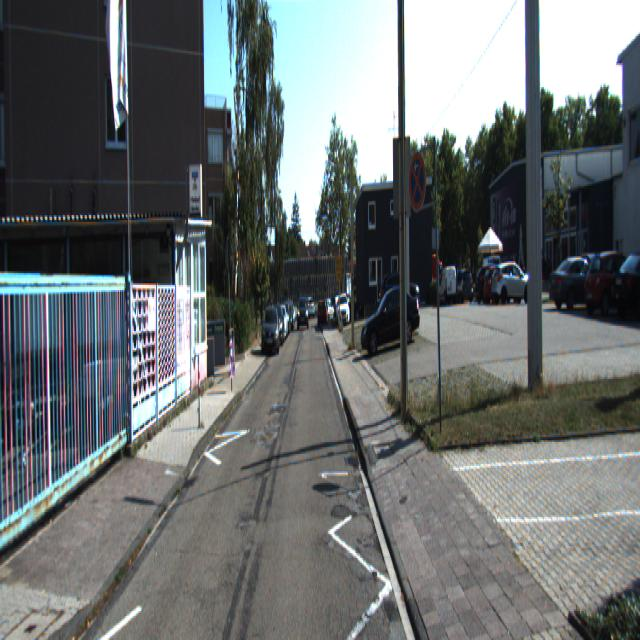Car: (358, 282, 423, 360), (582, 246, 640, 317), (548, 248, 612, 310), (610, 245, 640, 325), (489, 260, 533, 306), (482, 263, 525, 305), (260, 304, 280, 358), (438, 264, 458, 306)
